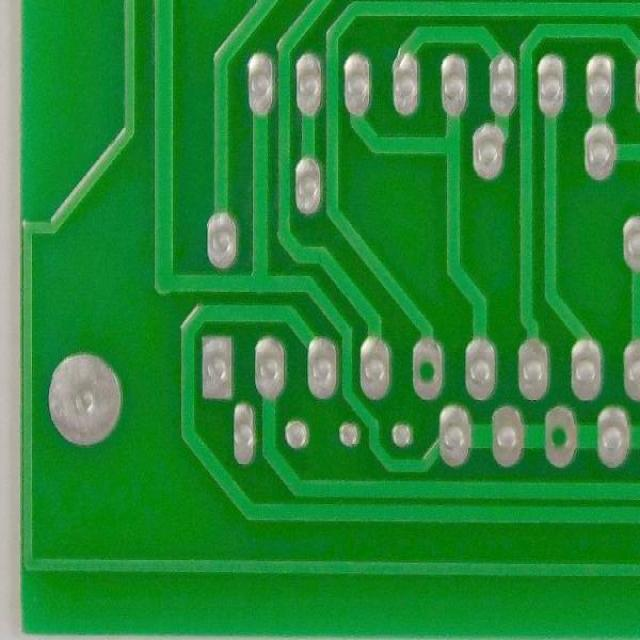missing hole: (408, 332, 450, 409), (540, 400, 584, 468)
